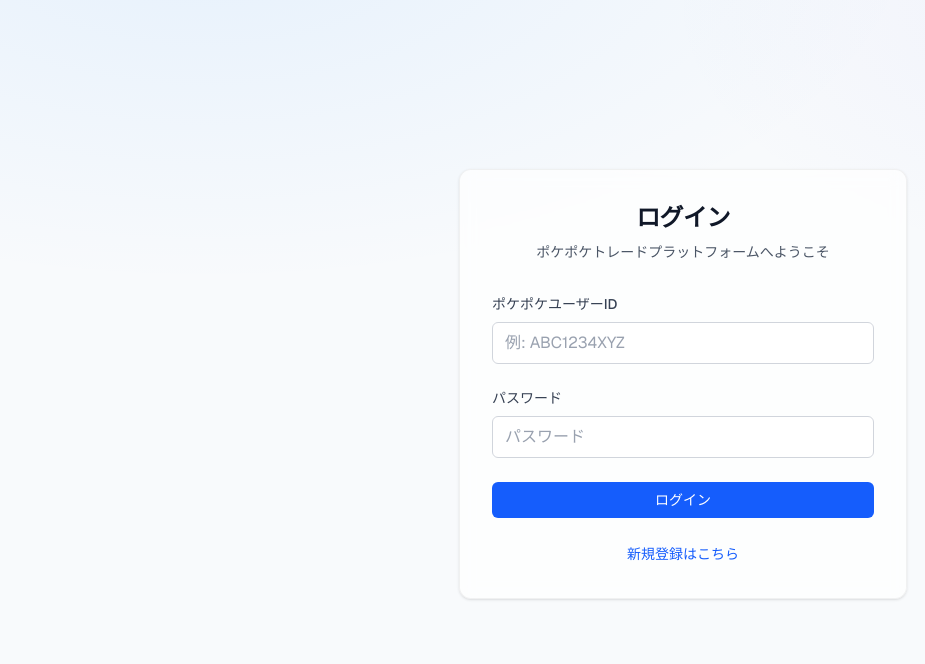
Scenario: LoginPage Integration › switches to registration form
The width and height of the screenshot is (925, 664).
Click the button "新規登録はこちら" at (683, 554), box [627,544,739,564]
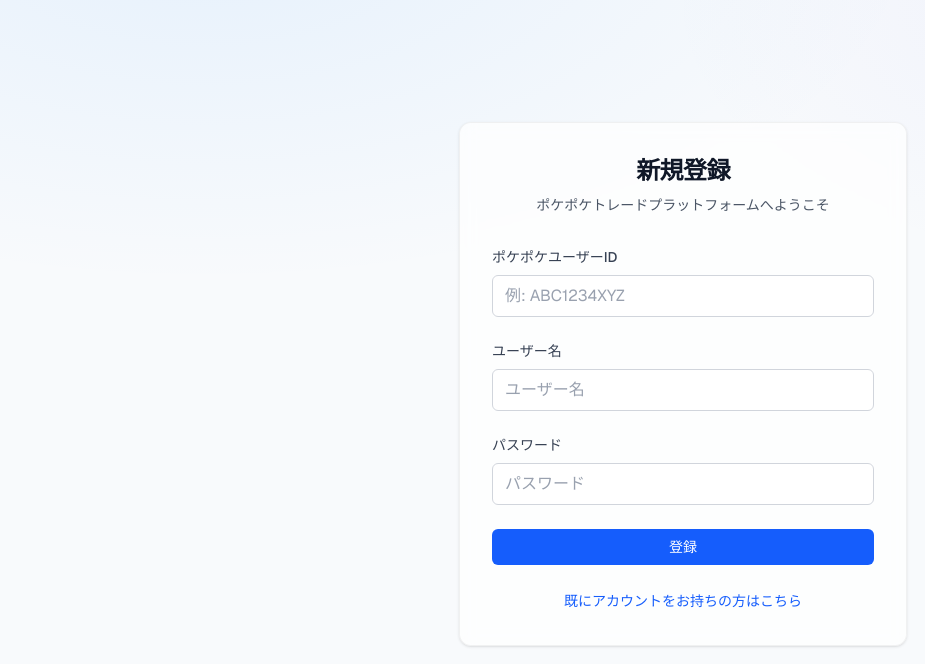
Check: the heading "新規登録" is shown, box [636,155,730,186]
Check: the button "登録" is shown, box [492,529,874,565]
